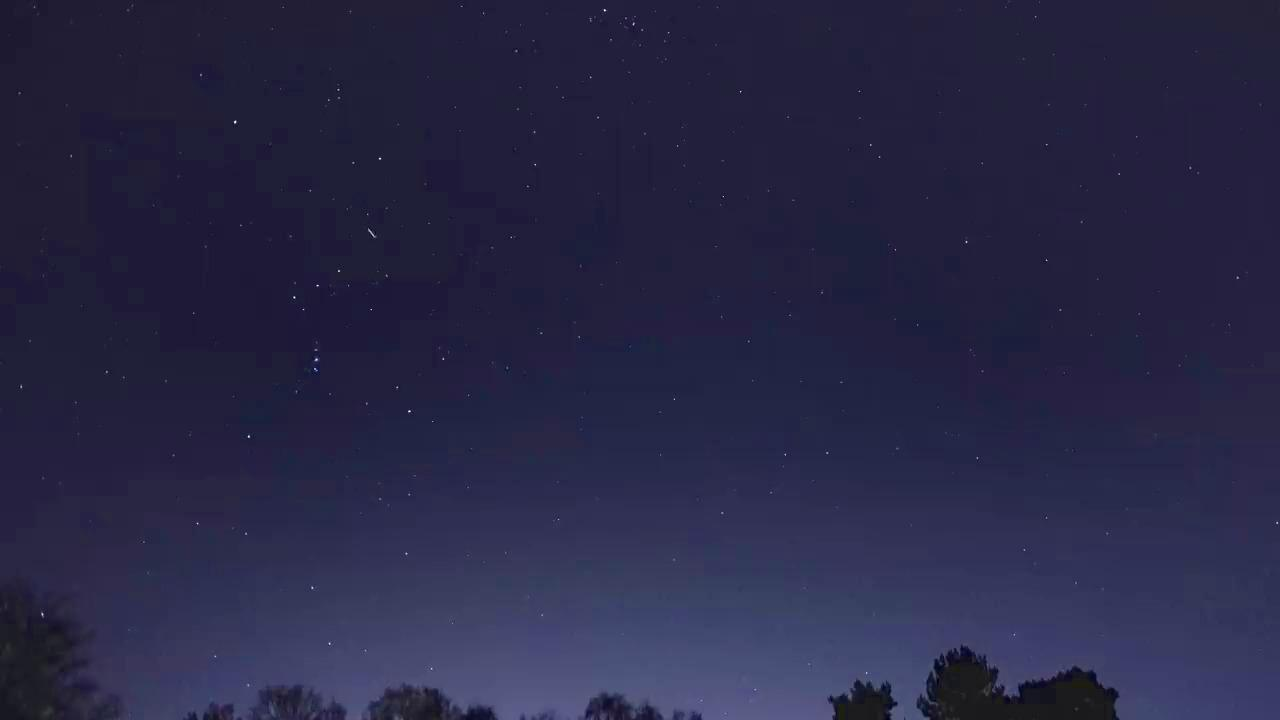meteorite: (346, 223, 394, 244)
